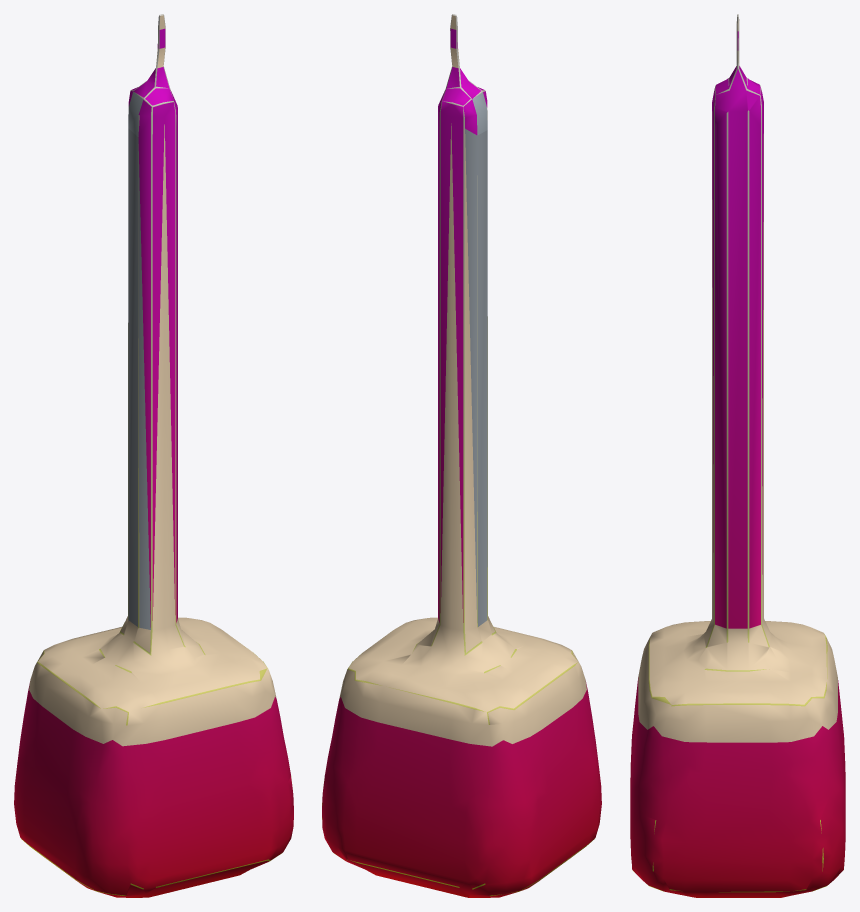
File: gp_borne.glb
3 renders of one model, left to right at view 1: azimuth 30°, elevation 25°; view 2: azimuth 150°, elevation 25°; view 3: azimuth 270°, elevation 25°, orthographic.
Visible parts, largest first — view 1: gp_borne; view 2: gp_borne; view 3: gp_borne.
Part boxes in pixels (<box>): gp_borne: <box>14,14,293,897</box>; gp_borne: <box>322,14,601,897</box>; gp_borne: <box>630,14,845,897</box>.
Bounding box in the file's own units: 0.6574 × 2.54 × 0.5856.
